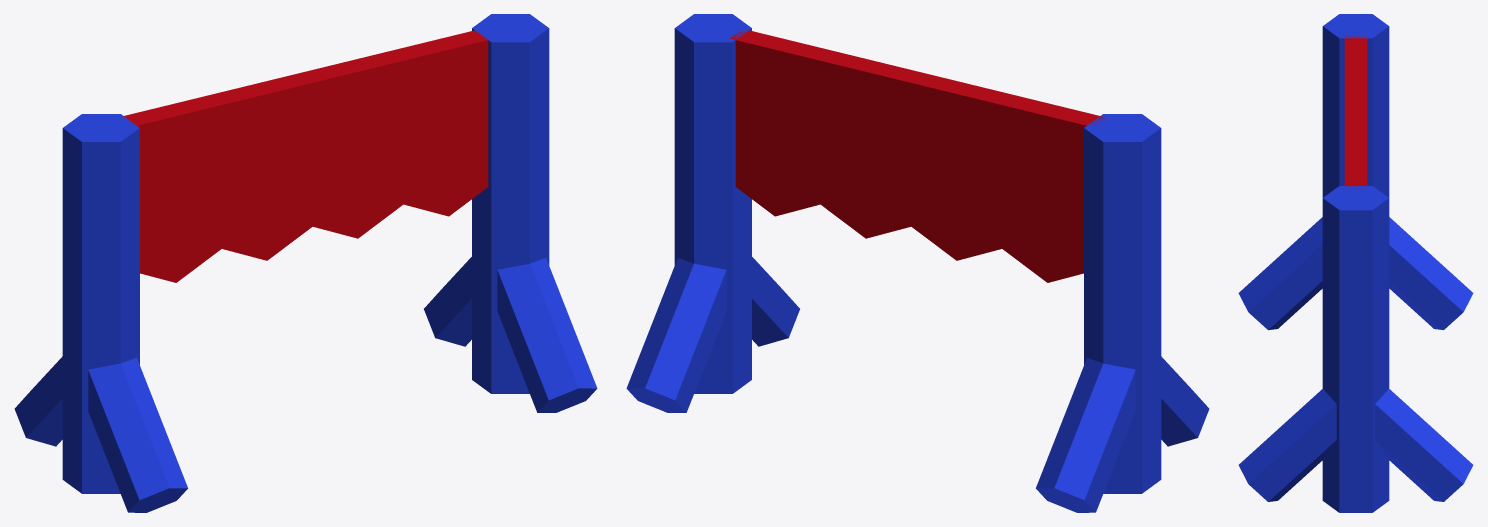
Rendered from gate.fbx.
3 renders of one model, left to right at view 1: azimuth 30°, elevation 25°; view 2: azimuth 150°, elevation 25°; view 3: azimuth 270°, elevation 25°, orthographic. The views are drawn at different scales.
Parts seen in each view (by area): view 1: Cylinder, Cube.001; view 2: Cylinder, Cube.001; view 3: Cylinder, Cube.001.
Part boxes in pixels (box(x1,y1,x2,y2)): Cylinder: box(14, 14, 597, 512); Cube.001: box(121, 30, 488, 282); Cylinder: box(626, 14, 1209, 512); Cube.001: box(730, 30, 1105, 282); Cylinder: box(1238, 14, 1473, 512); Cube.001: box(1344, 35, 1367, 188).
Size of the model in its own units: 22.59 by 16.26 by 11.44.
